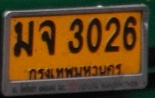txt06: (37, 19, 57, 57)
txt28: (12, 20, 35, 58)
